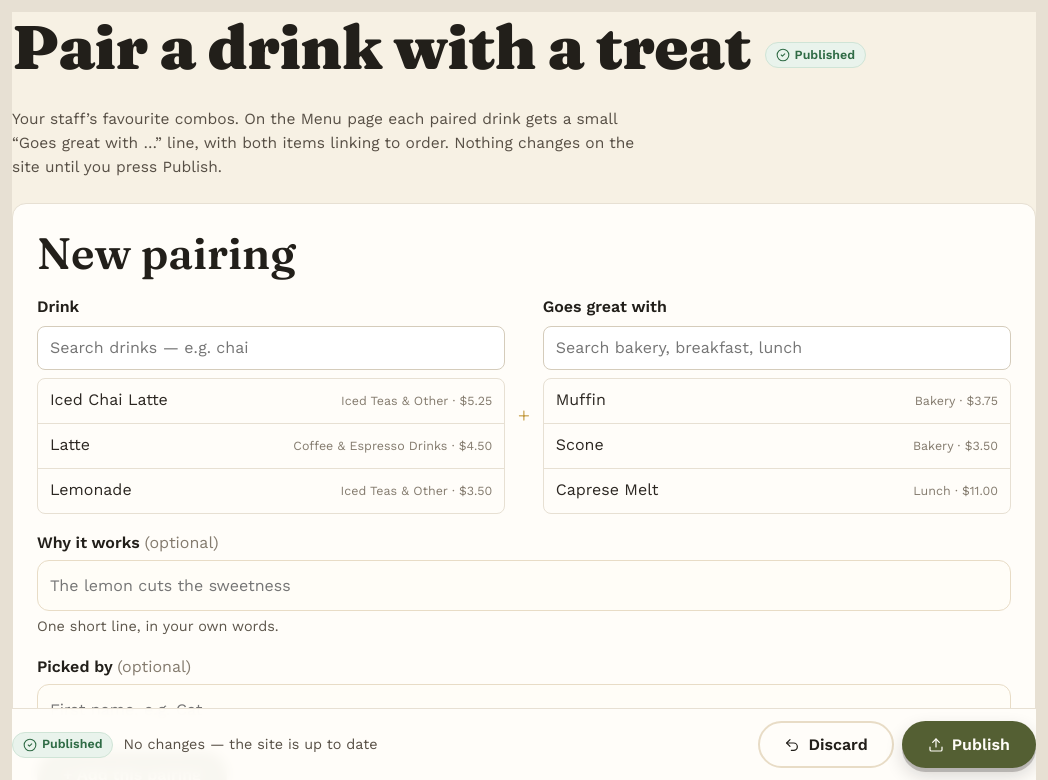
Test case: admin: Pair a drink with a treat › picks from the live menu, writes nothing until Publish, then creates the row
This screenshot has width=1048, height=780.
In the search field labelled "Drink": point(271, 348) [37,326,505,370], type "chai"
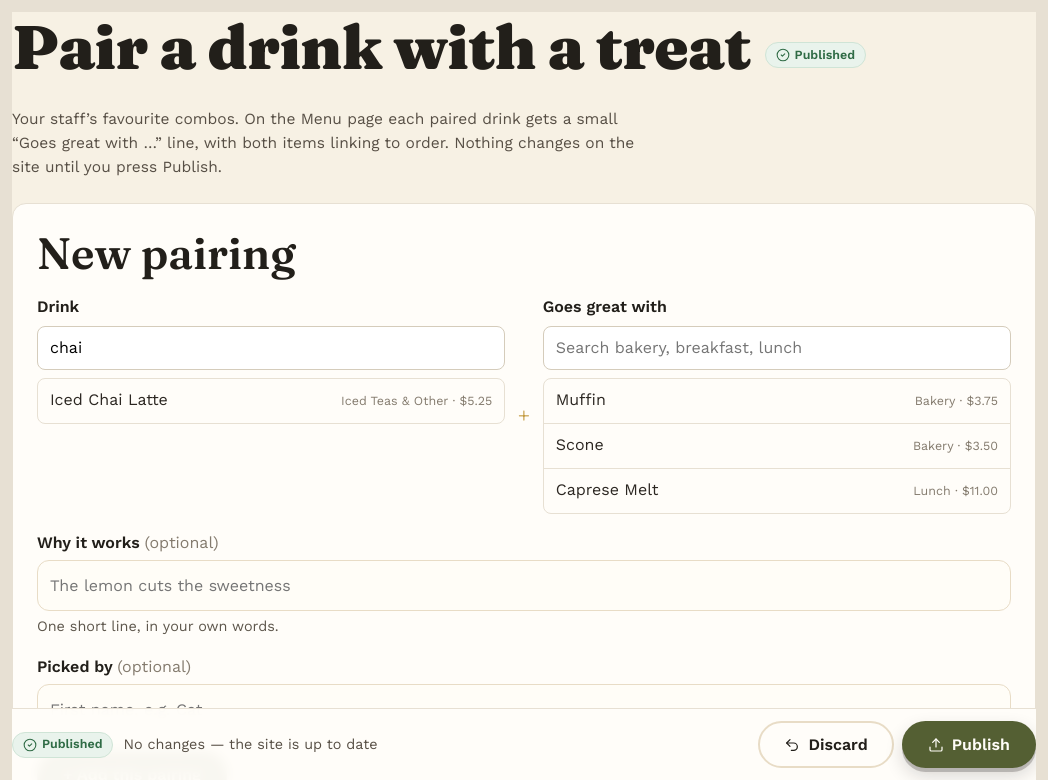
Click the button "Iced Chai Latte Iced Teas & Other · $5.25": point(109, 399) [38,379,504,423]
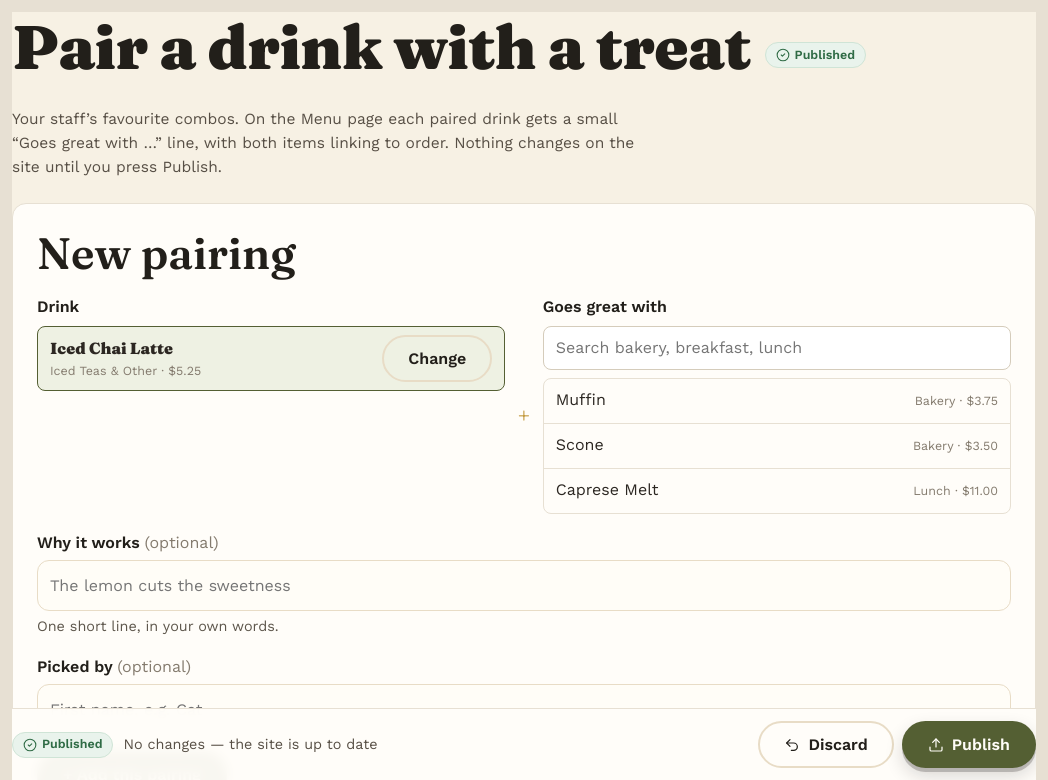
Click the text "Muffin": point(581, 400) [556,387,606,413]
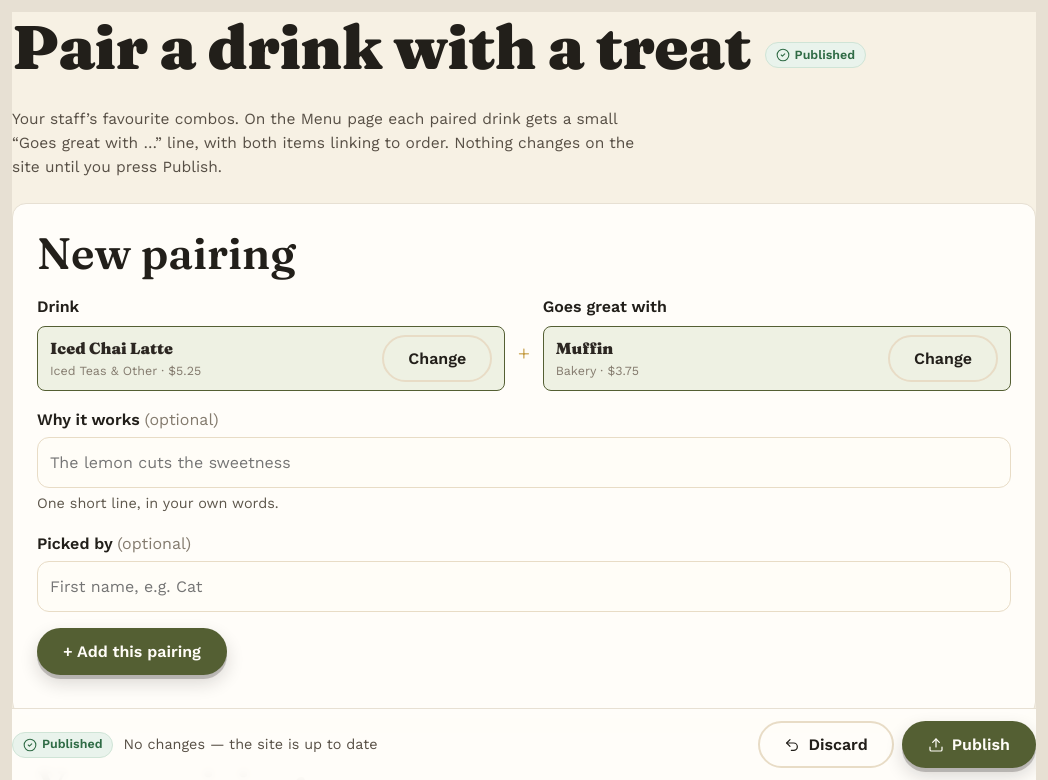
In the field labelled "Why it works (optional)": point(524, 462) [37,437,1011,488], type "The spice wakes up the blueberry"
In the field labelled "Picked by (optional)": point(524, 587) [37,561,1011,612], type "Cat"
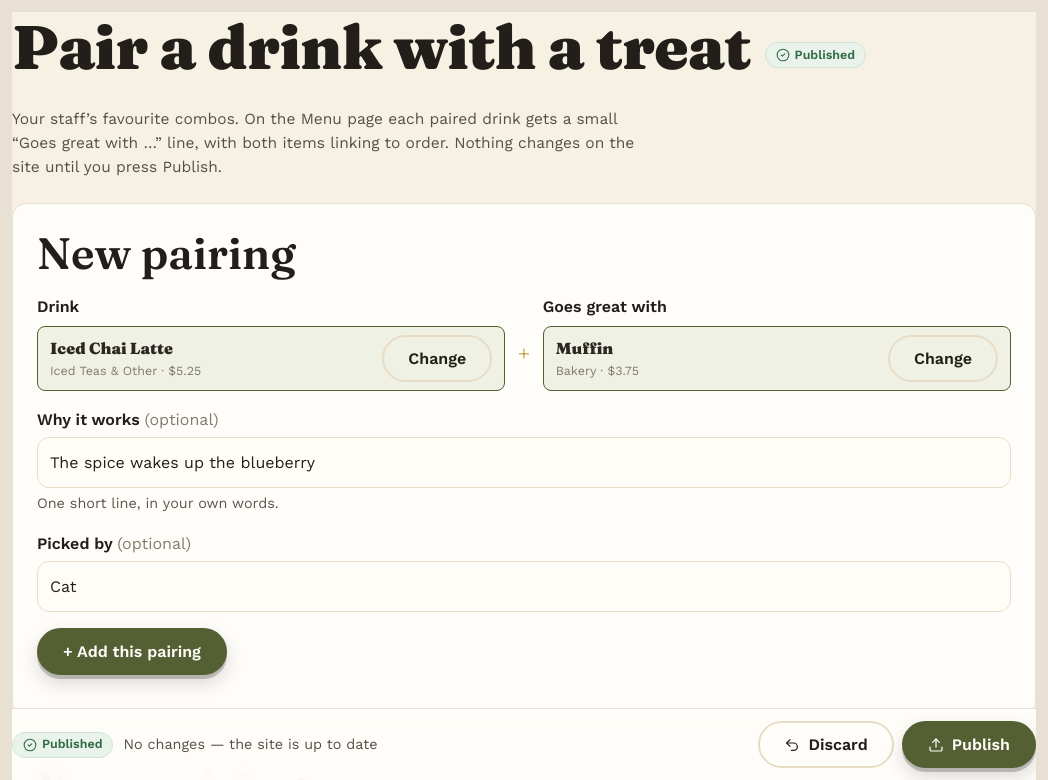
Click the button "+ Add this pairing": point(132, 652) [37,628,227,675]
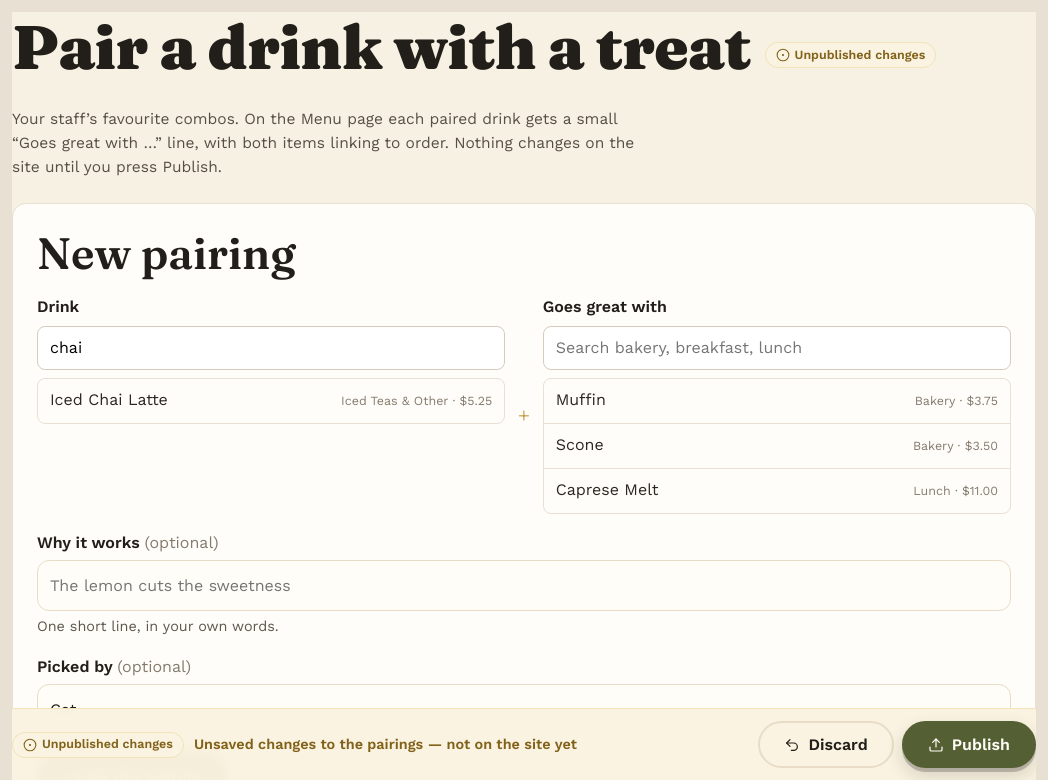
Click the button "Publish": point(969, 744) [902,721,1036,768]
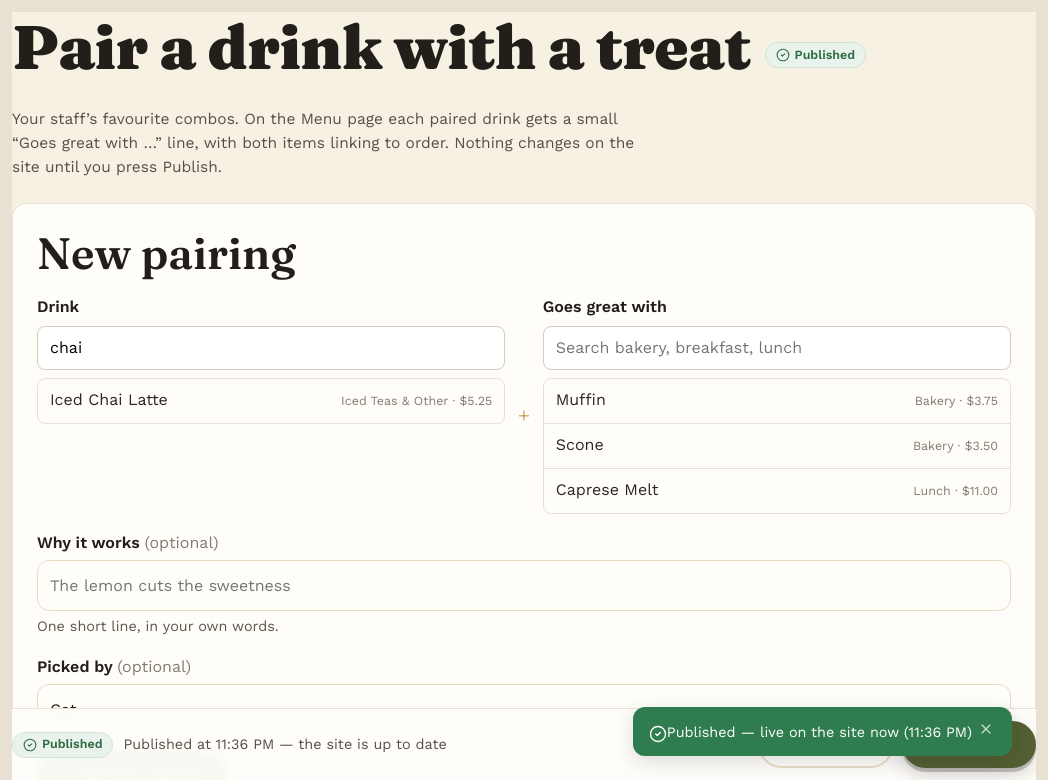
expect the text "Published — live on the site now (11:36 PM)" is shown: met, box [667,724,972,740]
